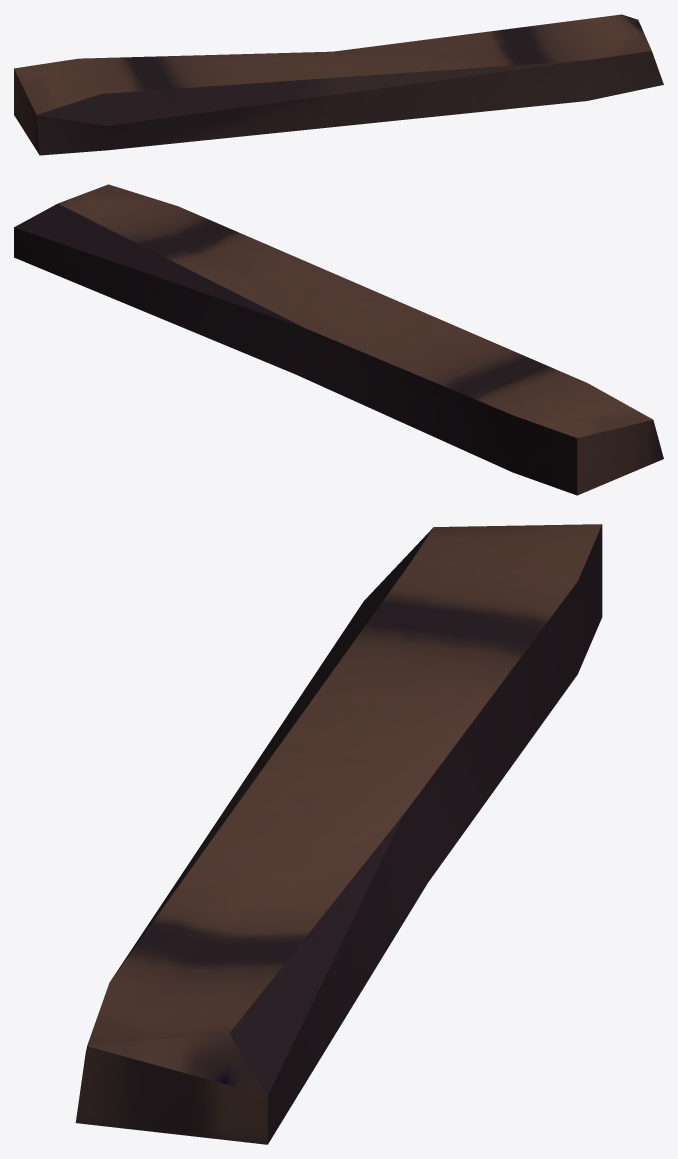
File: bridge_13.FBX
3 renders of one model, top to bottom at view 1: azimuth 30°, elevation 25°; view 2: azimuth 150°, elevation 25°; view 3: azimuth 270°, elevation 25°, orthographic. The views are drawn at different scales.
Visible parts, largest first — view 1: bridge_13; view 2: bridge_13; view 3: bridge_13.
Boxes of the visible parts, box(x1,y1,x2,y2) form: bridge_13: box(14, 14, 663, 155); bridge_13: box(14, 184, 663, 495); bridge_13: box(75, 524, 602, 1144).
Size of the model in its own units: 4.01 by 0.3166 by 1.62.
